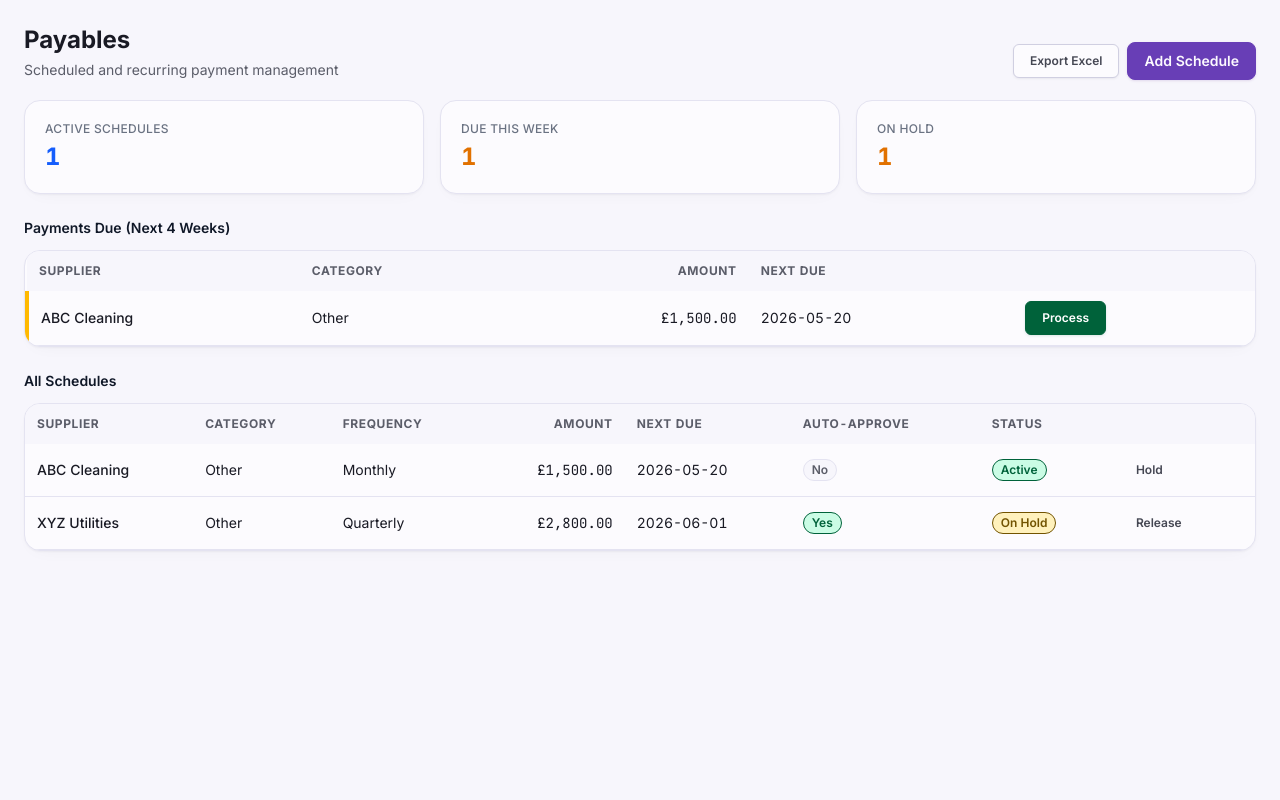
Test: PayablesManager › opens Add Payment Schedule modal on button click
The width and height of the screenshot is (1280, 800).
What coordinates should you click on to do the following:
click the button "Add Schedule"
I would click on:
 (1192, 61)
Its box is 1127,42 -> 1256,80.
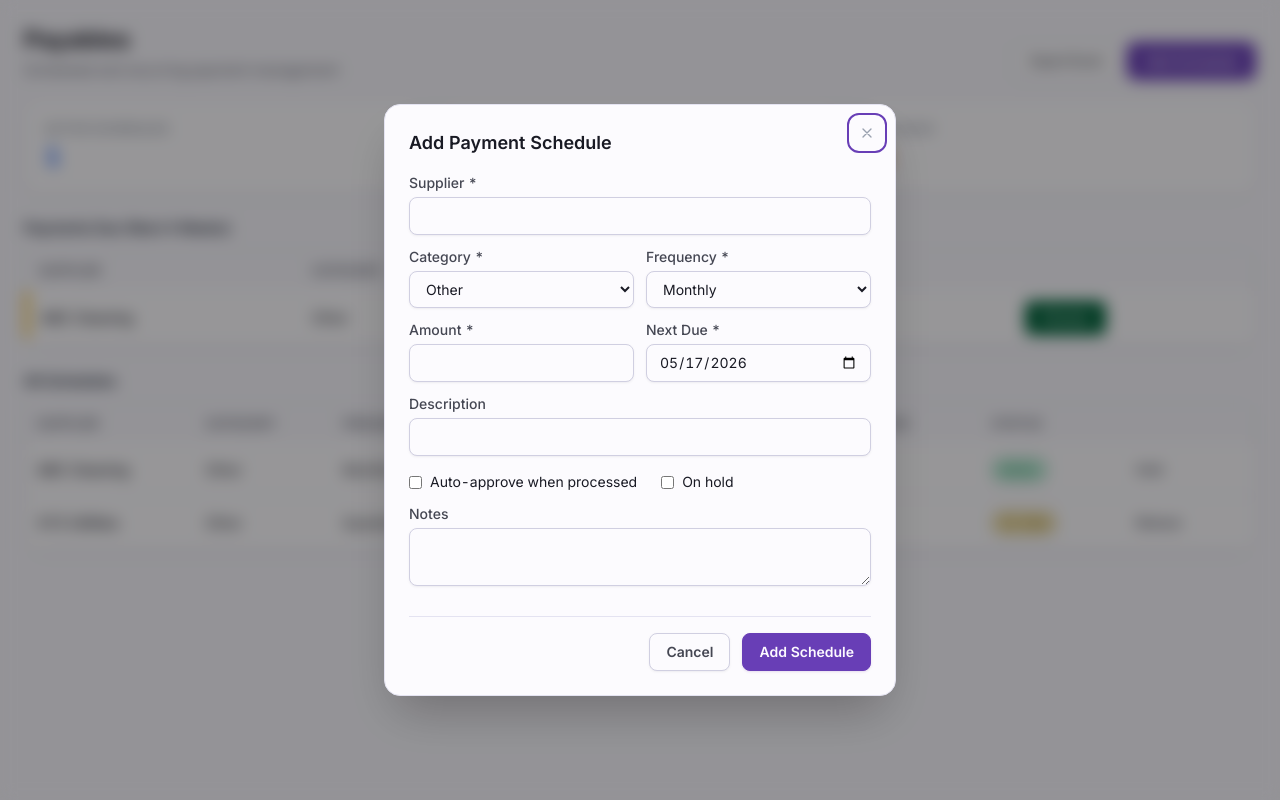
Now the heading "Add Payment Schedule" is shown, box 409,132 -> 612,153
Now the field labelled "Supplier *" is shown, box 409,197 -> 871,235
